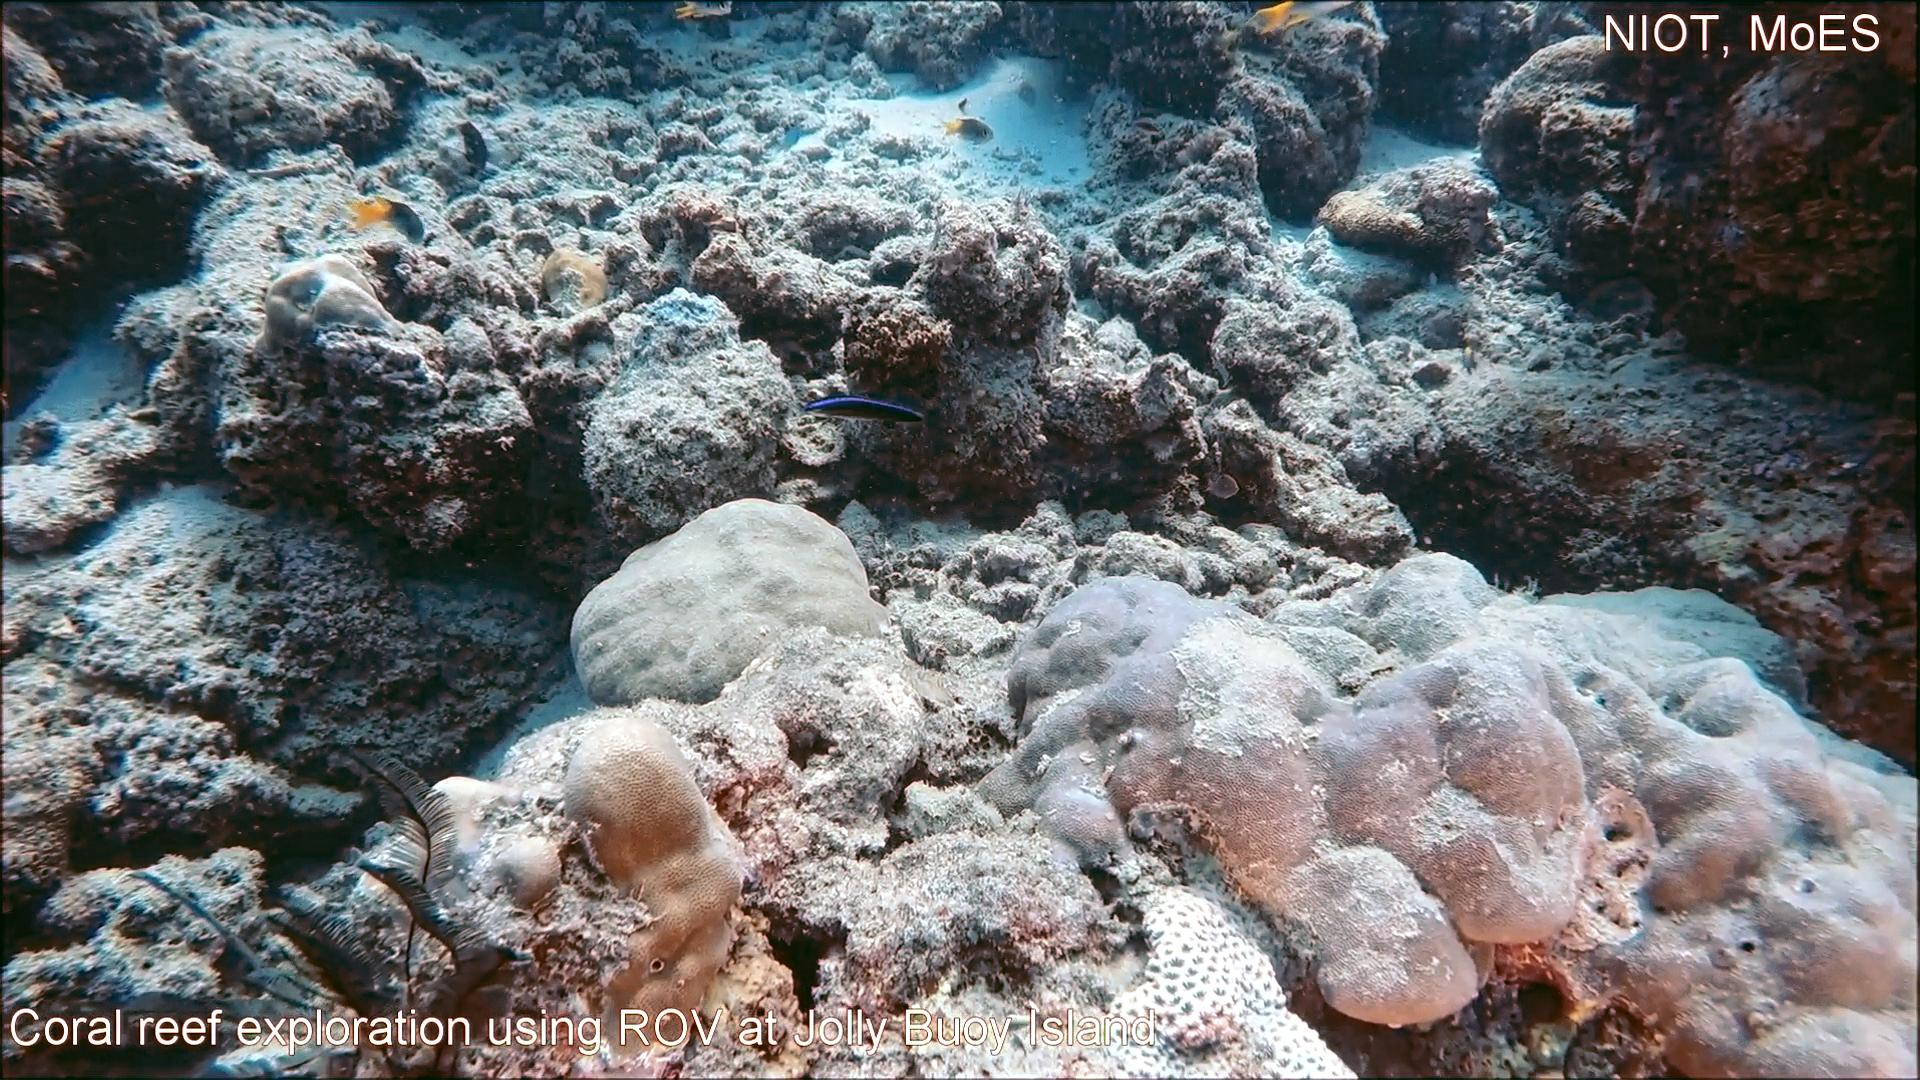Feather star-Crinoid star: (4, 728, 550, 1080)
Goniastrea-Goniastrea pectinata: (1096, 873, 1367, 1080)
Porites-Porites pukoensis: (1436, 541, 1920, 1080)
